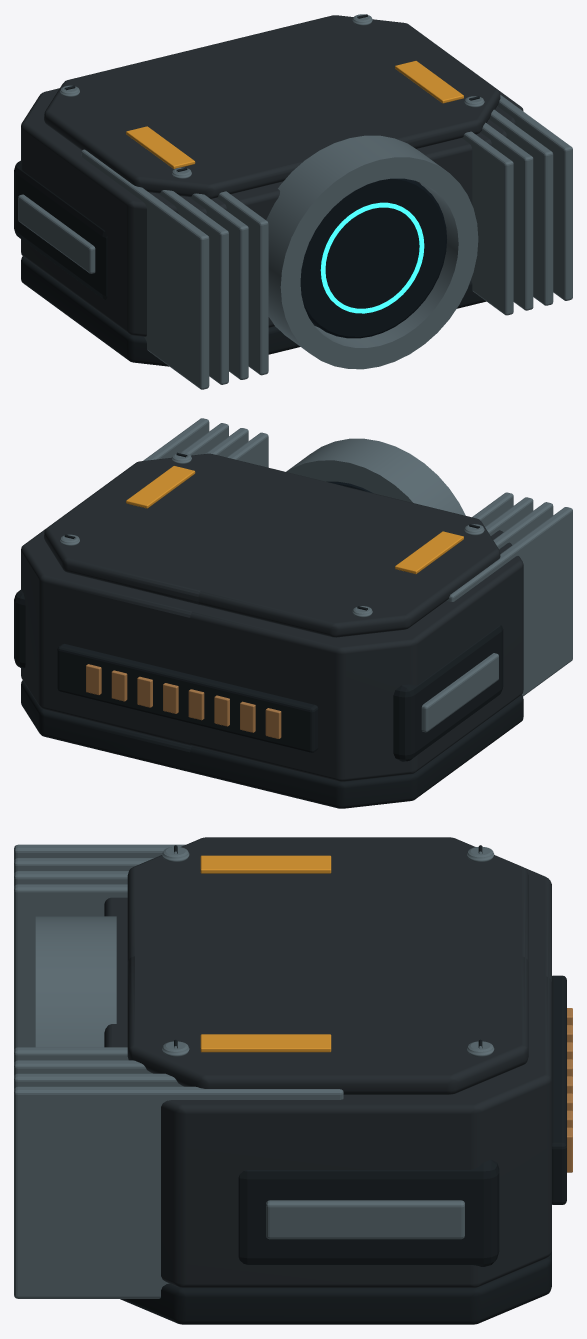
The model's file is laser_module.glb.
3 views of the same model, one above another, from view 1: azimuth 30°, elevation 25°; view 2: azimuth 150°, elevation 25°; view 3: azimuth 270°, elevation 25° (orthographic). The views are drawn at different scales.
Visible parts, largest first — view 1: ServiceLid, LegacyLaserOpticRim, LegacyLaserOpticGlass, ConformalCassetteShell, LaserHeatFin.007, LaserHeatFin.004, LaserHeatFin.006, LaserHeatFin.005, LowerIsolationSeal, RecessedCoupler.001, WitnessMark.001, CouplerRail.001 (+1 smaller); view 2: ConformalCassetteShell, ServiceLid, LowerIsolationSeal, LaserHeatFin.007, ConnectorRecess, LegacyLaserOpticRim, RecessedCoupler.001, WitnessMark.001, CouplerRail.001, LaserHeatFin.006, LaserHeatFin.004, LaserHeatFin.005 (+4 smaller); view 3: ServiceLid, ConformalCassetteShell, LaserHeatFin.007, RecessedCoupler.001, LowerIsolationSeal, LegacyLaserOpticRim, CouplerRail.001, LaserHeatFin.004, WitnessMark.001, LaserHeatFin.006, ConnectorRecess, LaserHeatFin.005 (+2 smaller).
Part boxes in pixels (bbox=[...]): ServiceLid: bbox=[44, 15, 500, 198]; LegacyLaserOpticRim: bbox=[266, 135, 478, 369]; LegacyLaserOpticGlass: bbox=[300, 178, 446, 338]; ConformalCassetteShell: bbox=[21, 88, 523, 336]; LaserHeatFin.007: bbox=[81, 95, 572, 389]; LaserHeatFin.004: bbox=[217, 131, 513, 375]; LaserHeatFin.006: bbox=[158, 109, 553, 384]; LaserHeatFin.005: bbox=[190, 122, 533, 379]; LowerIsolationSeal: bbox=[21, 256, 486, 366]; RecessedCoupler.001: bbox=[14, 160, 107, 299]; WitnessMark.001: bbox=[126, 61, 463, 168]; CouplerRail.001: bbox=[18, 194, 95, 273]; ConformalCassetteShell: bbox=[21, 529, 523, 781]; ServiceLid: bbox=[44, 453, 500, 637]; LowerIsolationSeal: bbox=[21, 680, 523, 808]; LaserHeatFin.007: bbox=[143, 418, 572, 696]; ConnectorRecess: bbox=[57, 643, 318, 752]; LegacyLaserOpticRim: bbox=[286, 438, 465, 515]; RecessedCoupler.001: bbox=[14, 589, 503, 761]; WitnessMark.001: bbox=[126, 466, 463, 573]; CouplerRail.001: bbox=[421, 653, 498, 732]; LaserHeatFin.006: bbox=[181, 423, 553, 549]; LaserHeatFin.004: bbox=[227, 432, 513, 526]; LaserHeatFin.005: bbox=[205, 428, 533, 535]; ServiceLid: bbox=[127, 837, 528, 1094]; ConformalCassetteShell: bbox=[104, 868, 551, 1287]; LaserHeatFin.007: bbox=[14, 844, 343, 1298]; RecessedCoupler.001: bbox=[238, 1160, 499, 1266]; LowerIsolationSeal: bbox=[120, 1251, 551, 1324]; LegacyLaserOpticRim: bbox=[35, 916, 116, 1047]; CouplerRail.001: bbox=[266, 1200, 464, 1239]; LaserHeatFin.004: bbox=[14, 884, 128, 1063]; WitnessMark.001: bbox=[200, 855, 331, 1052]; LaserHeatFin.006: bbox=[14, 858, 183, 1089]; ConnectorRecess: bbox=[552, 975, 566, 1204]; LaserHeatFin.005: bbox=[14, 871, 152, 1076].
Bounding box in the file's own units: 1.04 × 0.5 × 0.8985.
